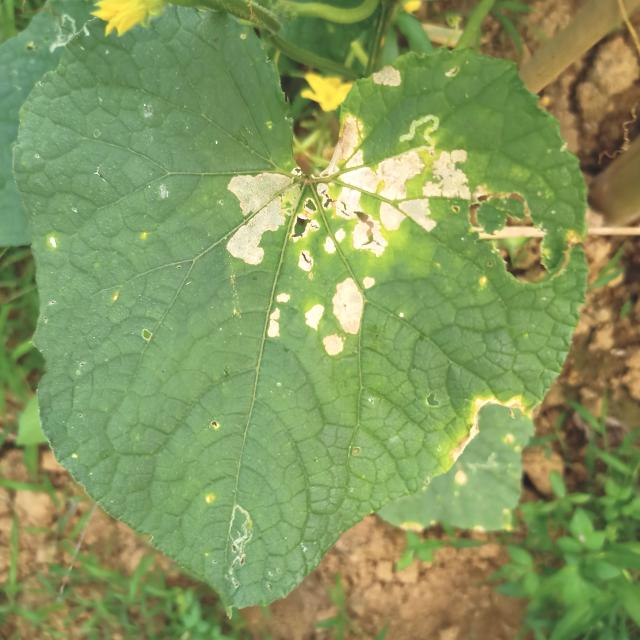disease_cucumber: (217, 106, 469, 371)
